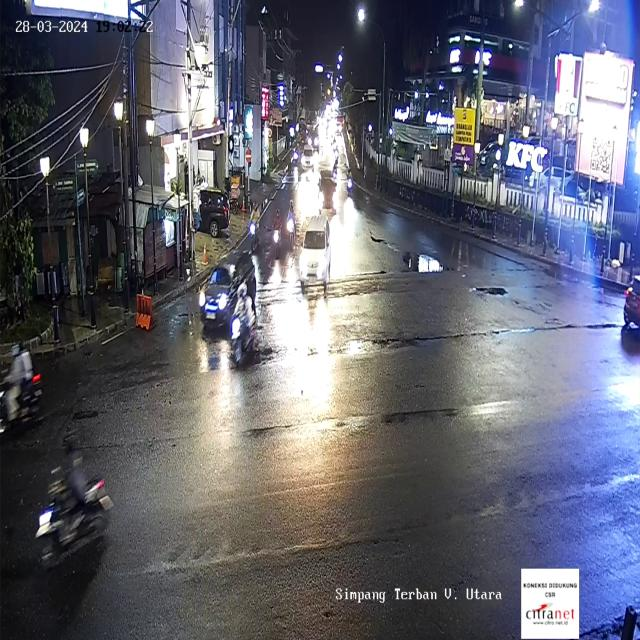car: (200, 253, 255, 334), (298, 216, 332, 291), (196, 190, 231, 238), (619, 272, 640, 334), (318, 176, 338, 216), (302, 145, 315, 174)
motorcycle: (36, 430, 105, 574), (0, 333, 43, 441), (232, 284, 259, 368), (286, 201, 298, 255), (250, 202, 260, 254), (273, 209, 281, 259), (345, 168, 354, 196)
